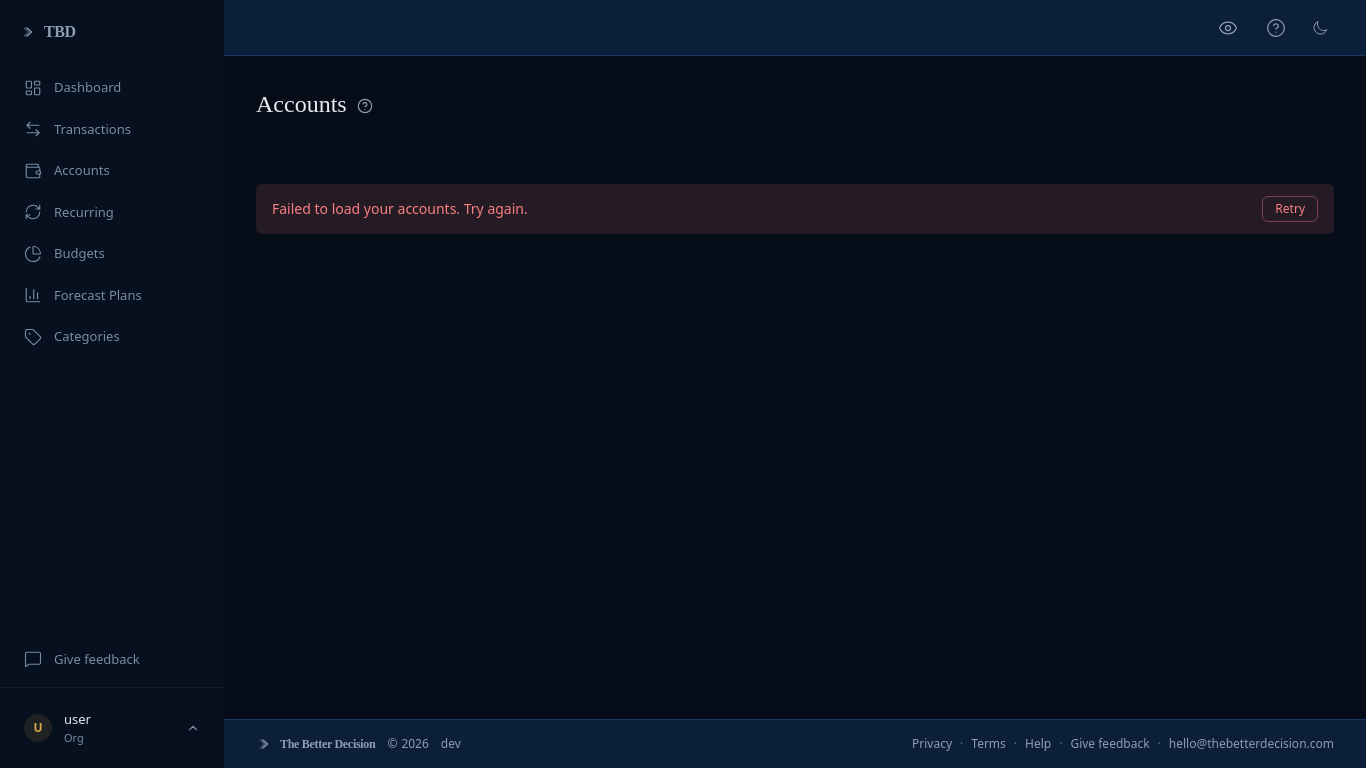
AccountsPage initial fetch error › keeps the error state when the retry fails again
Check: the message "Failed to load your accounts. Try again. Retry" is shown, box [256,184,1334,234]
Click the button "Retry": {"x": 1290, "y": 209} [1262,196,1318,222]
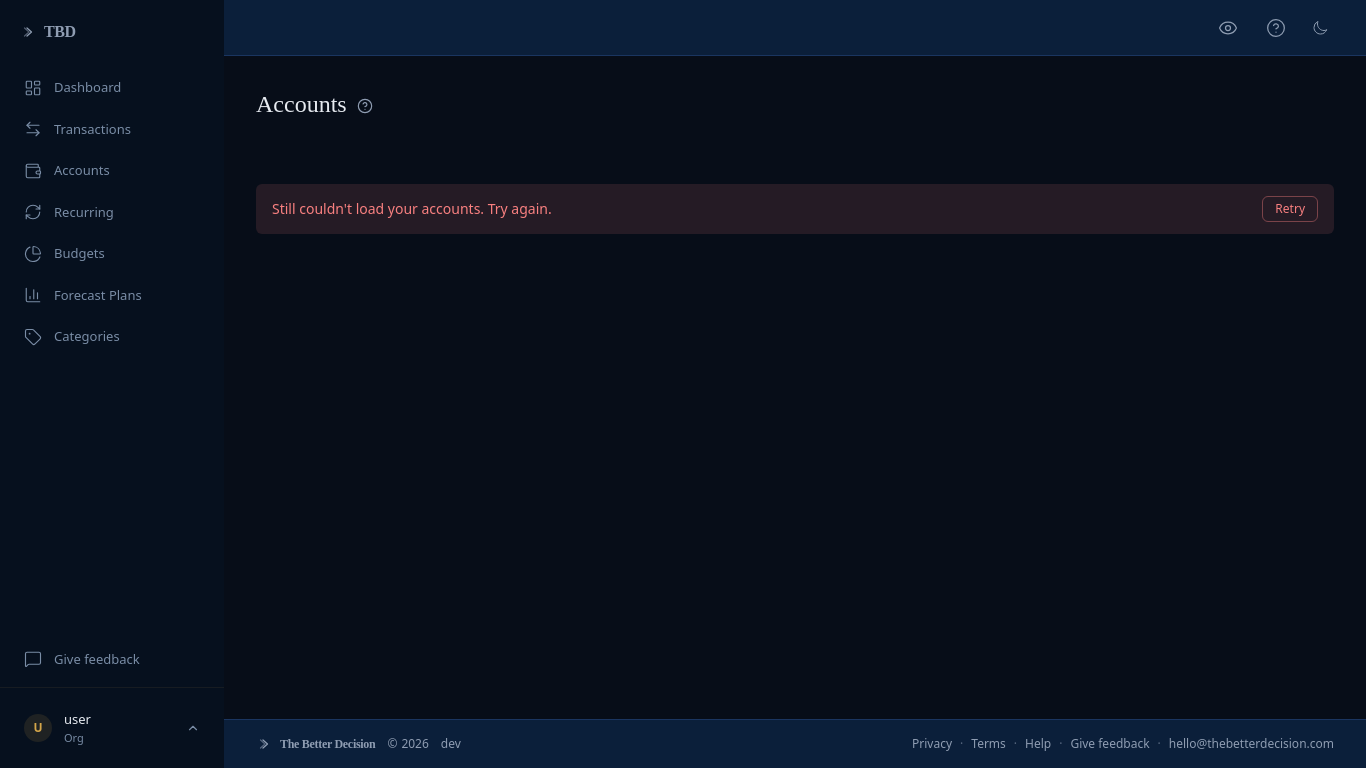
Check: the message with test id "accounts-initial-load-error" shows "Still couldn't load", box [272,199,552,218]
